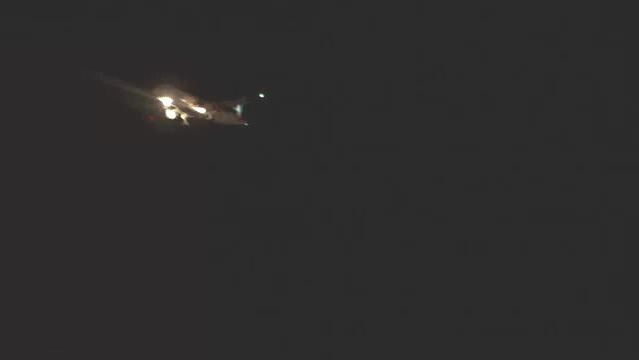Plane: (90, 66, 322, 147)
